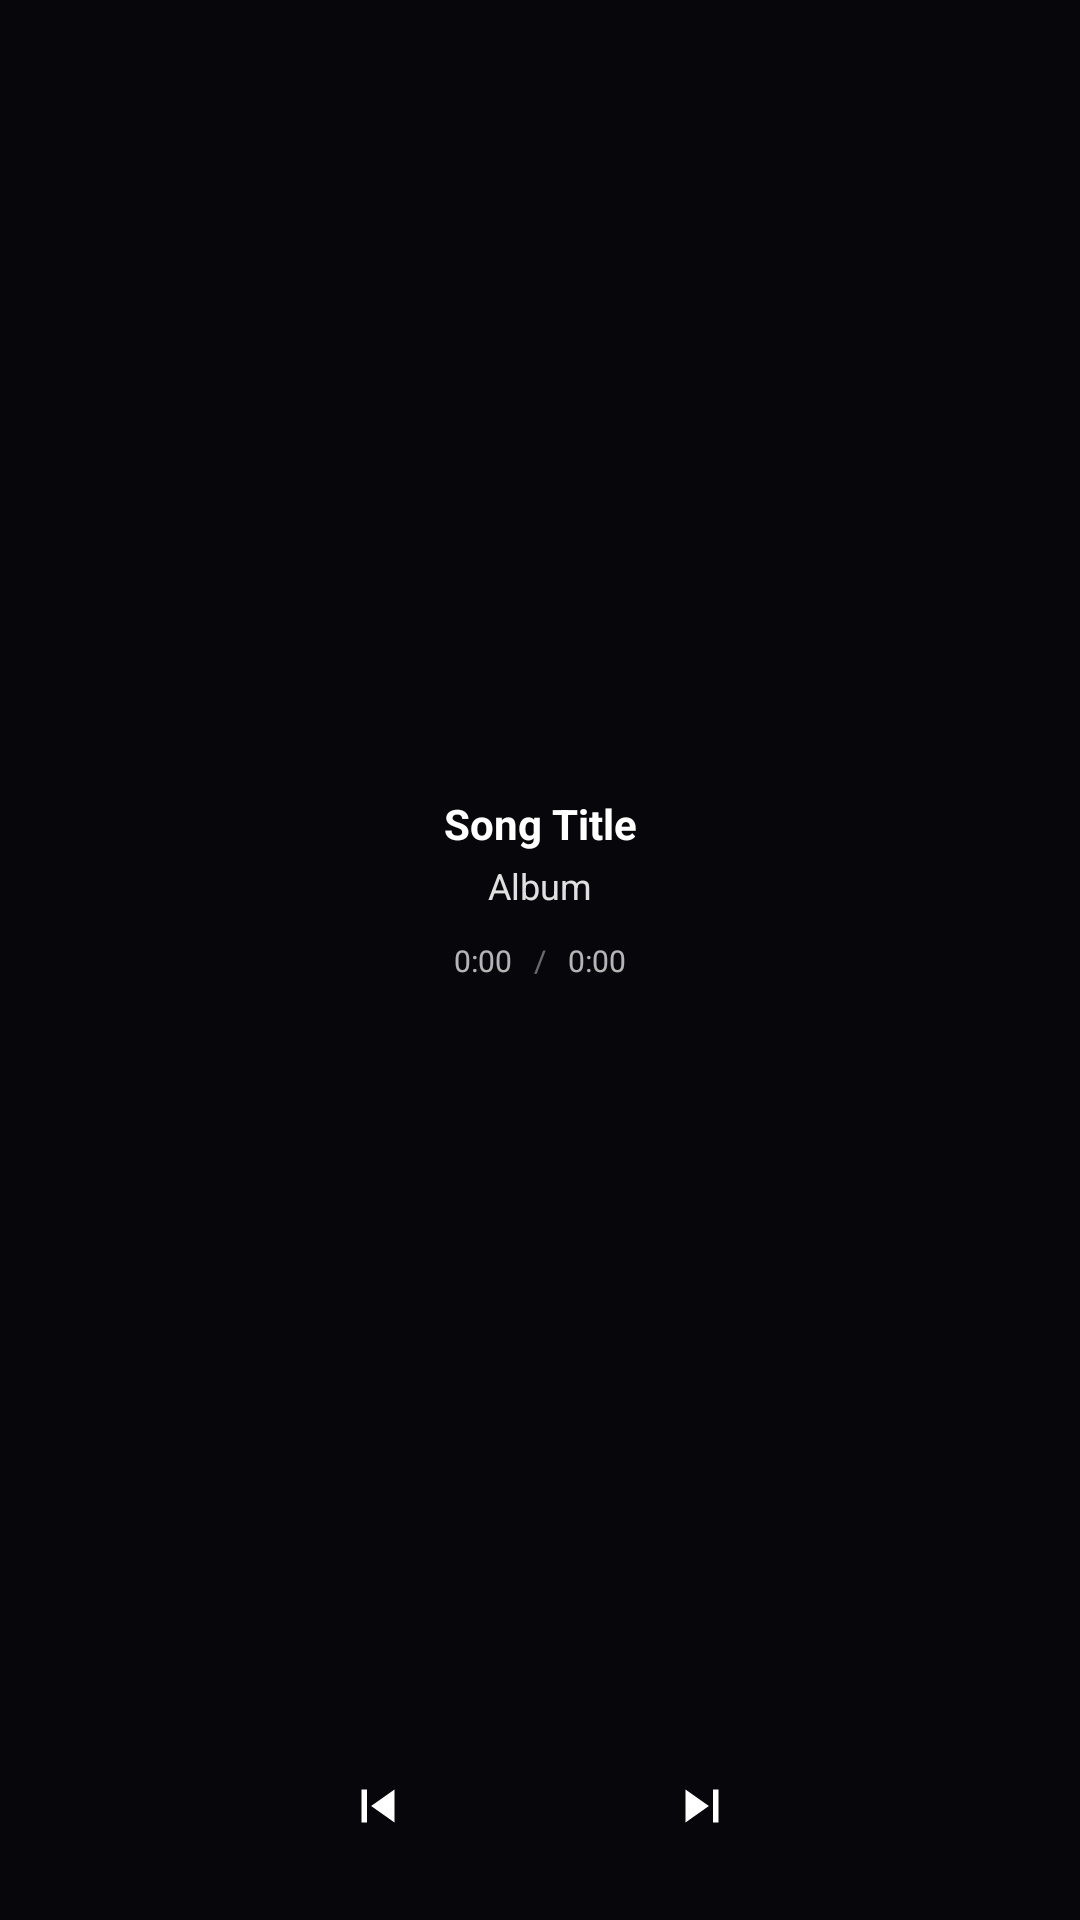

Named icons in this screenshot (1080*1920) and their centers, (x,y):
Next: (702,1806)
Previous: (378,1806)
